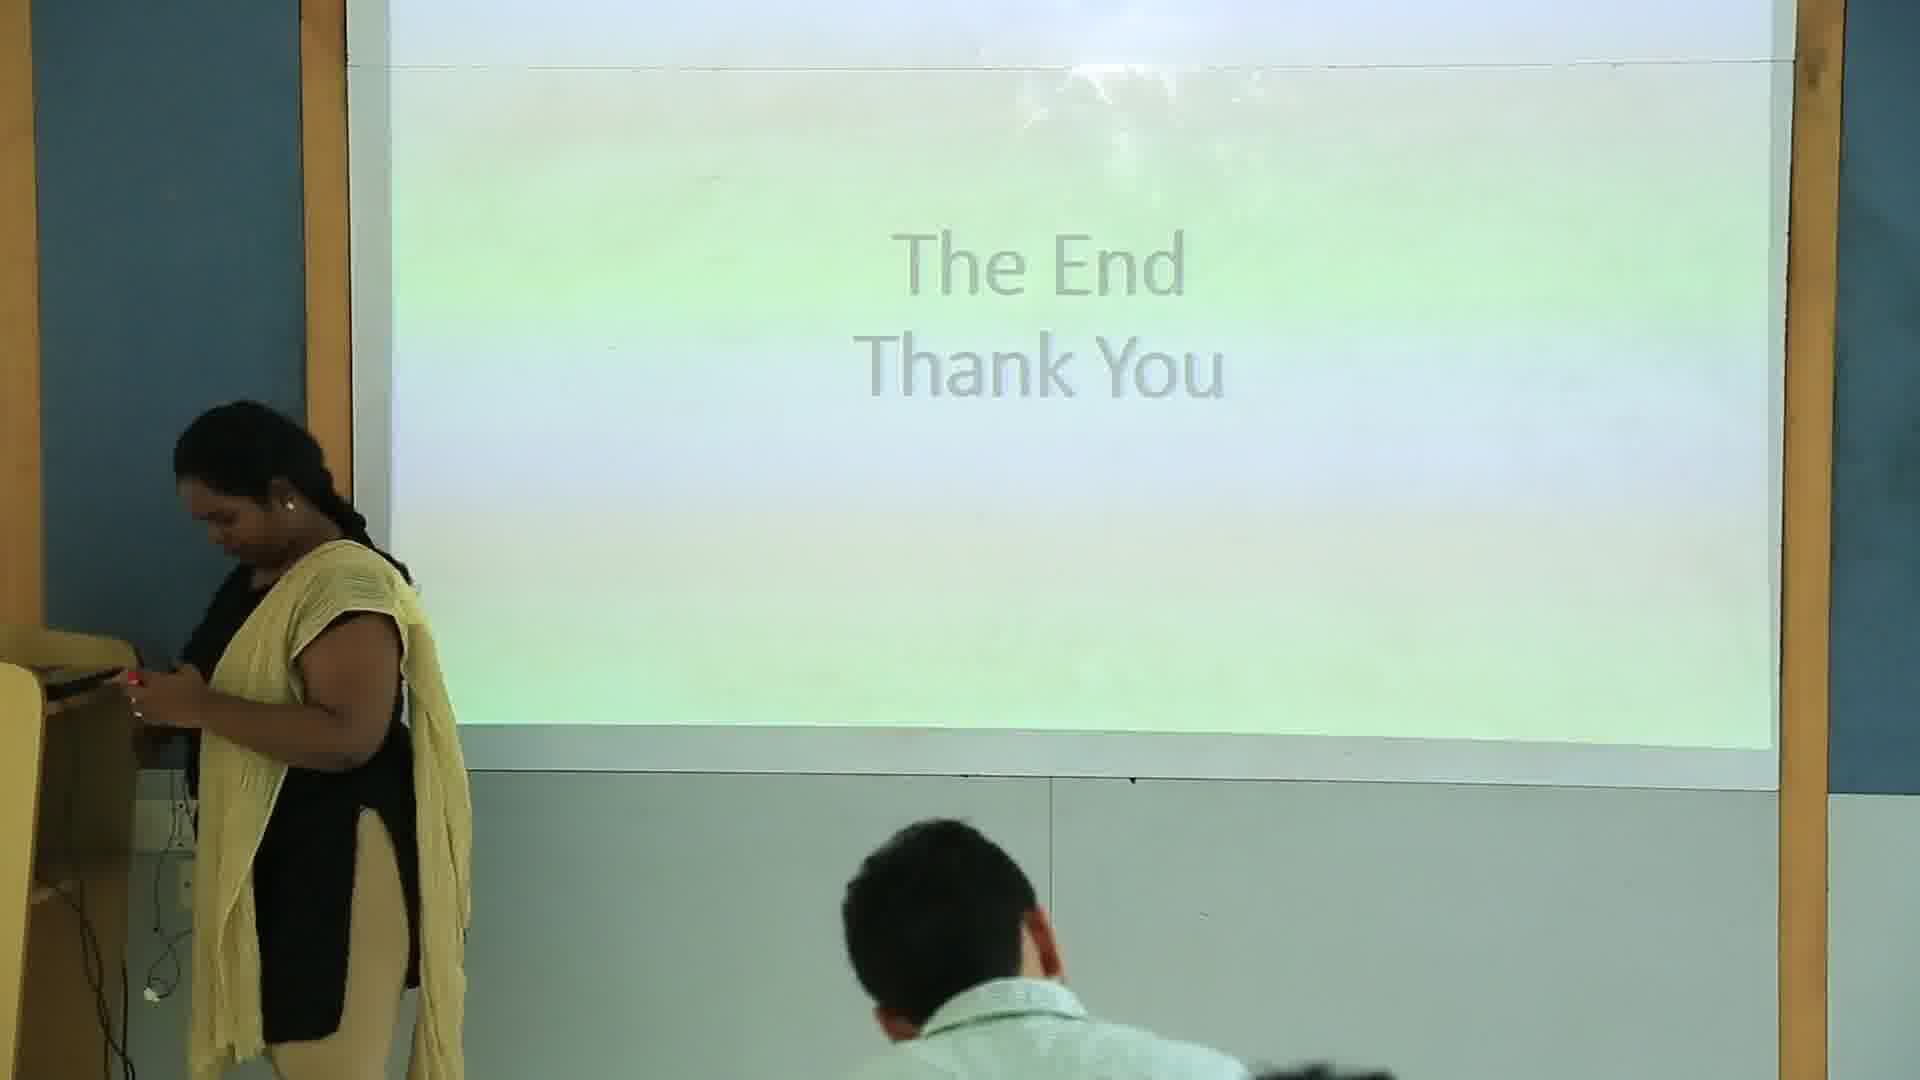slide: (386, 3, 1774, 749)
